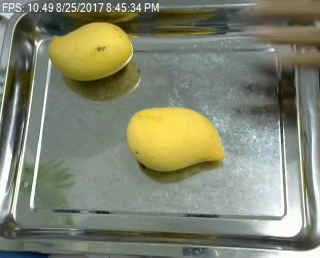Mango: (123, 105, 228, 173), (46, 16, 139, 81)
